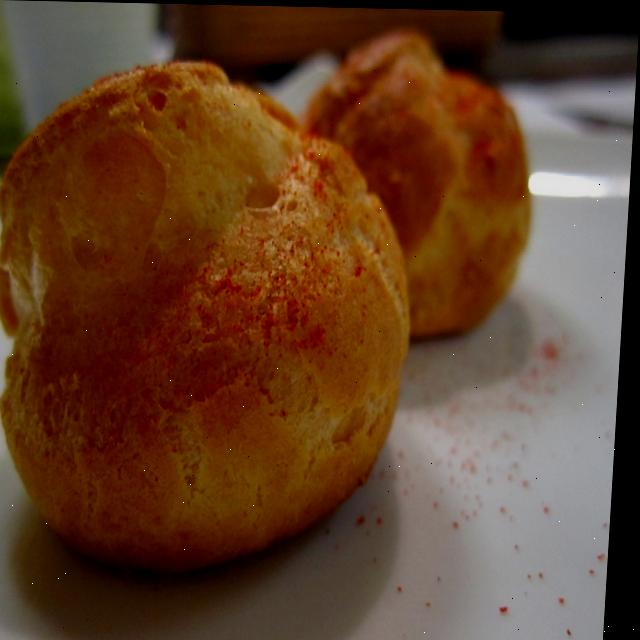炸货点心: (0, 23, 592, 599)
蛋糕甜品: (0, 23, 592, 599)
